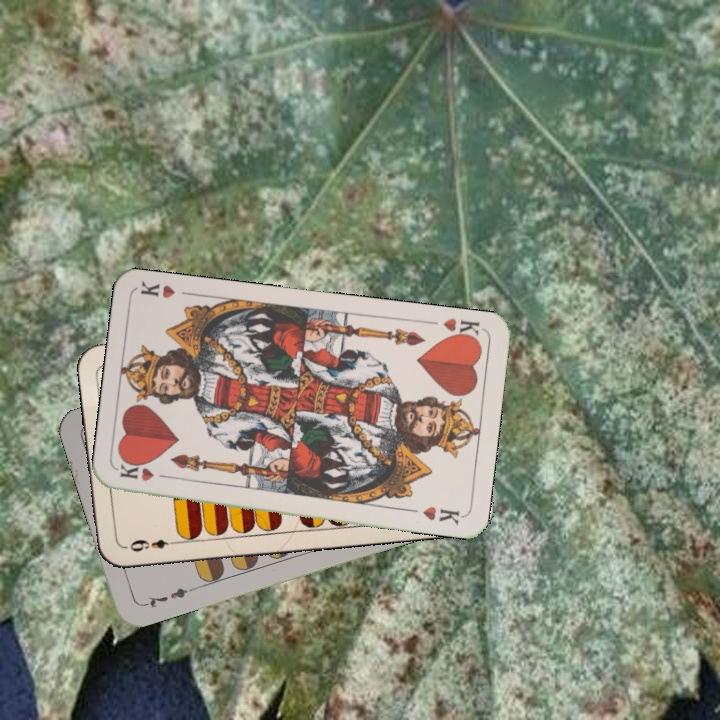E7: (139, 583, 197, 610)
E9: (120, 535, 179, 555)
HK: (115, 461, 175, 484), (439, 314, 485, 344)
